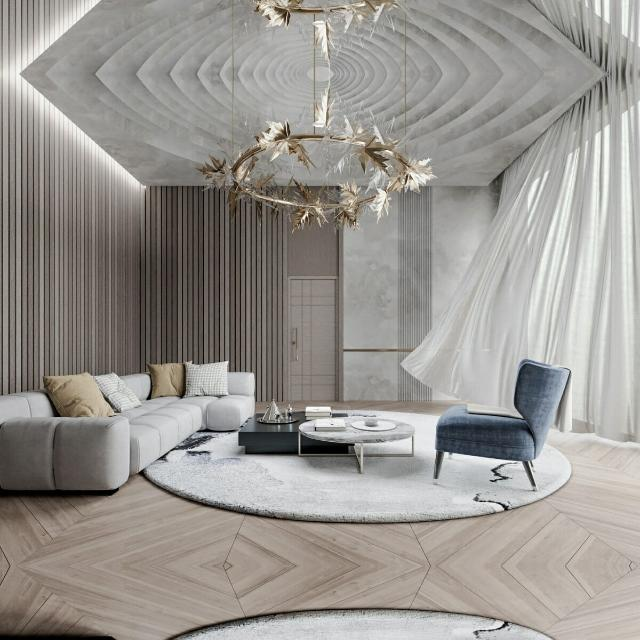couch: (0, 371, 253, 493)
pillow: (42, 370, 124, 414), (97, 371, 145, 411), (182, 359, 229, 397), (150, 360, 185, 395)
